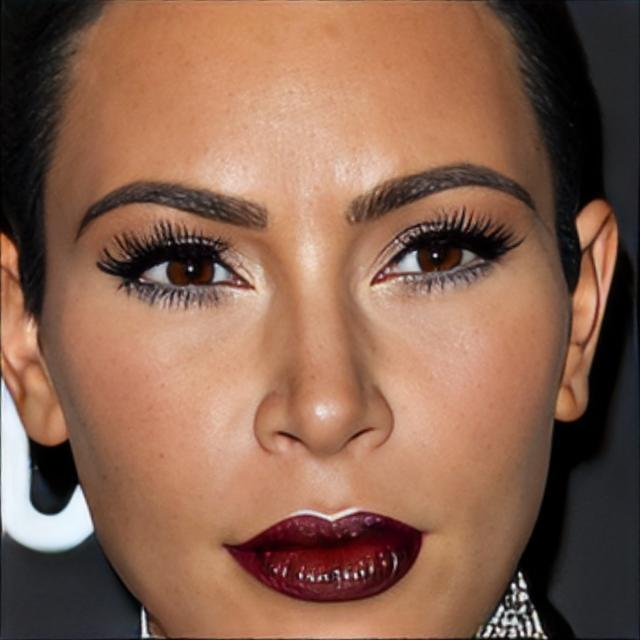neutral: (39, 0, 572, 640)
